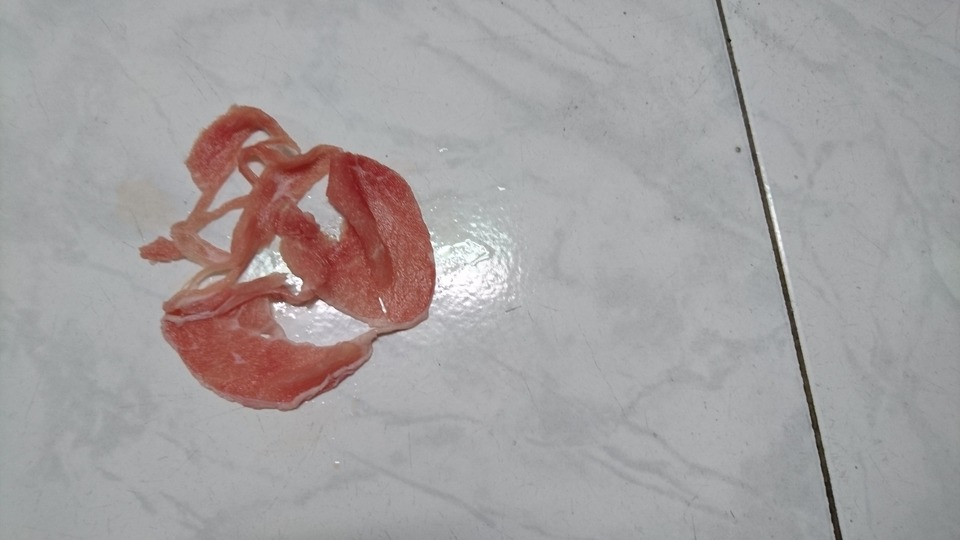restructured meat: (136, 100, 434, 412)
